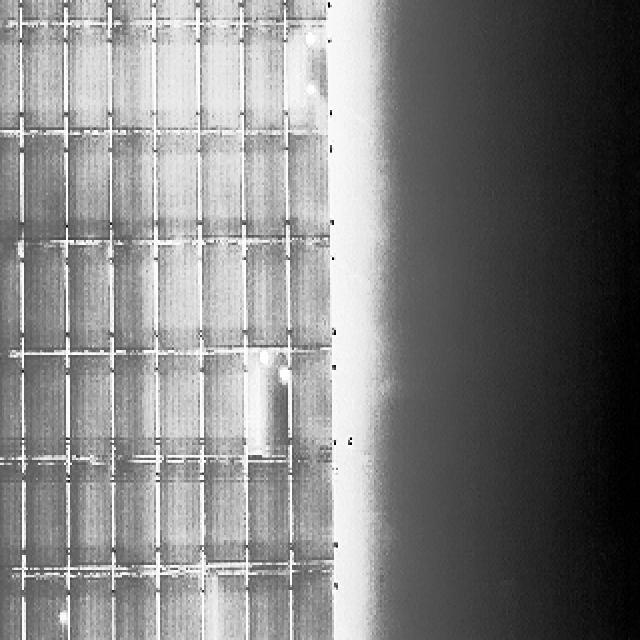Hotspots: (296, 28, 325, 55), (54, 605, 72, 632), (304, 76, 318, 98), (255, 347, 270, 366), (278, 366, 291, 384)
PV-modules: (68, 458, 114, 572), (200, 354, 248, 462), (110, 130, 156, 242), (64, 135, 110, 247), (64, 356, 112, 463), (243, 245, 289, 356), (27, 459, 72, 572), (66, 246, 111, 359), (24, 134, 70, 244), (284, 350, 330, 460), (156, 130, 201, 242), (26, 247, 70, 361), (157, 243, 203, 352), (200, 241, 246, 350), (200, 459, 246, 567), (239, 136, 285, 244), (113, 465, 159, 573), (156, 460, 202, 568), (152, 24, 198, 131), (248, 352, 293, 461), (24, 25, 69, 134), (112, 242, 157, 351), (292, 244, 336, 355), (64, 25, 110, 131), (199, 130, 243, 240), (155, 355, 200, 462), (198, 24, 243, 131), (289, 458, 333, 567), (25, 352, 70, 458), (113, 355, 158, 461), (245, 459, 289, 567), (284, 135, 329, 240), (242, 26, 286, 133), (289, 27, 333, 134), (110, 26, 154, 132), (158, 573, 205, 640), (112, 575, 160, 640), (248, 571, 293, 640), (289, 571, 334, 640), (201, 572, 246, 640), (25, 576, 72, 640), (64, 577, 111, 640), (0, 133, 24, 245), (0, 460, 24, 570), (0, 242, 24, 352), (0, 358, 24, 460), (0, 22, 18, 132), (0, 575, 22, 640), (108, 0, 152, 28), (240, 0, 286, 25), (150, 0, 194, 25), (62, 0, 106, 25), (282, 0, 326, 25), (22, 0, 68, 22), (196, 0, 242, 22), (0, 0, 18, 22)
